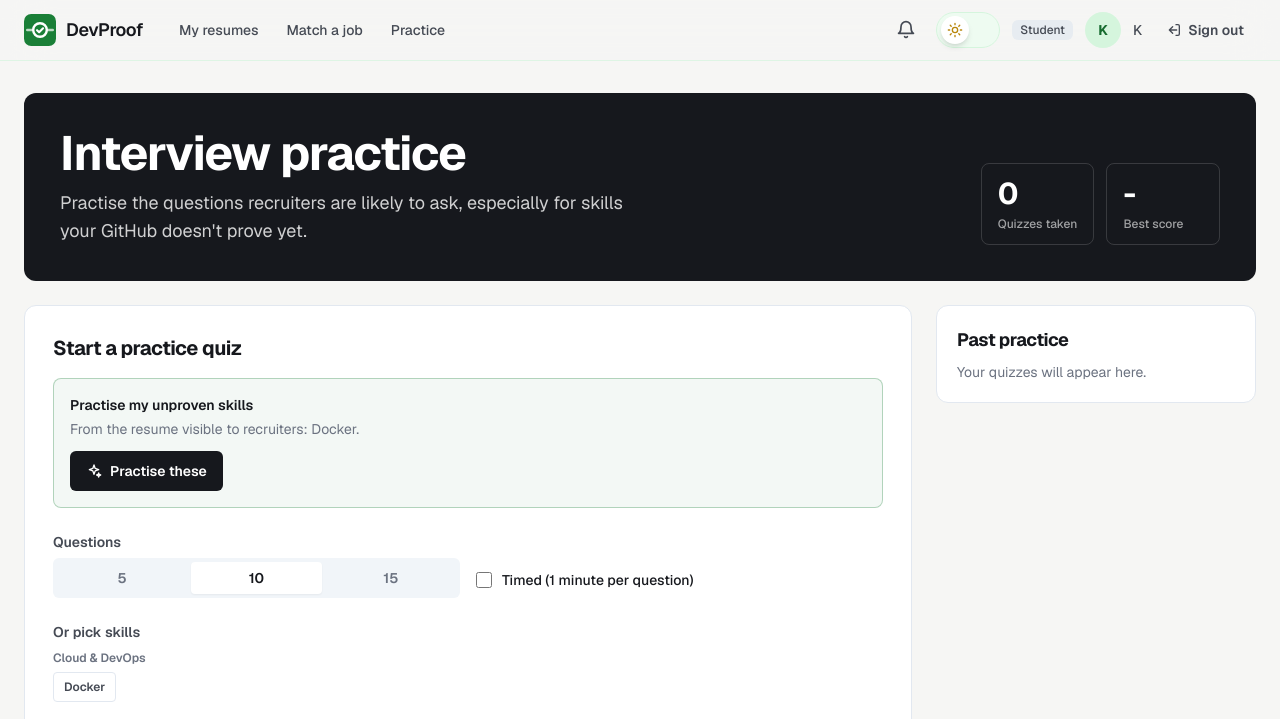
it: Practice page › practises unproven skills, answers, and shows the explanations
The width and height of the screenshot is (1280, 719).
Expected: the text "From the resume visible to recruiters: Docker." is shown, [70,420,359,438]
Click the button "Practise these".
click(146, 471)  # box [70,451,223,491]
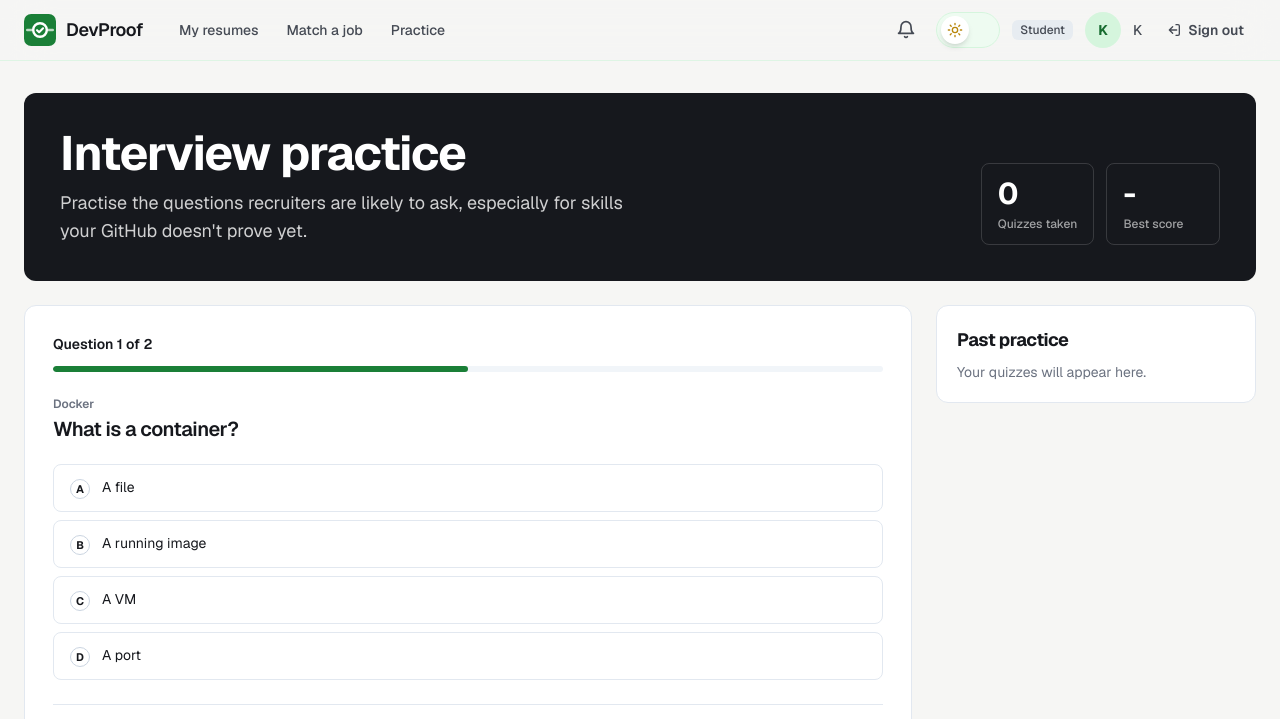
Expected: the text "Question 1 of 2" is shown, [53,334,152,354]
Click the radio button labelled "B A running image".
click(154, 542)  # box [53,520,883,568]
(page scrolled)
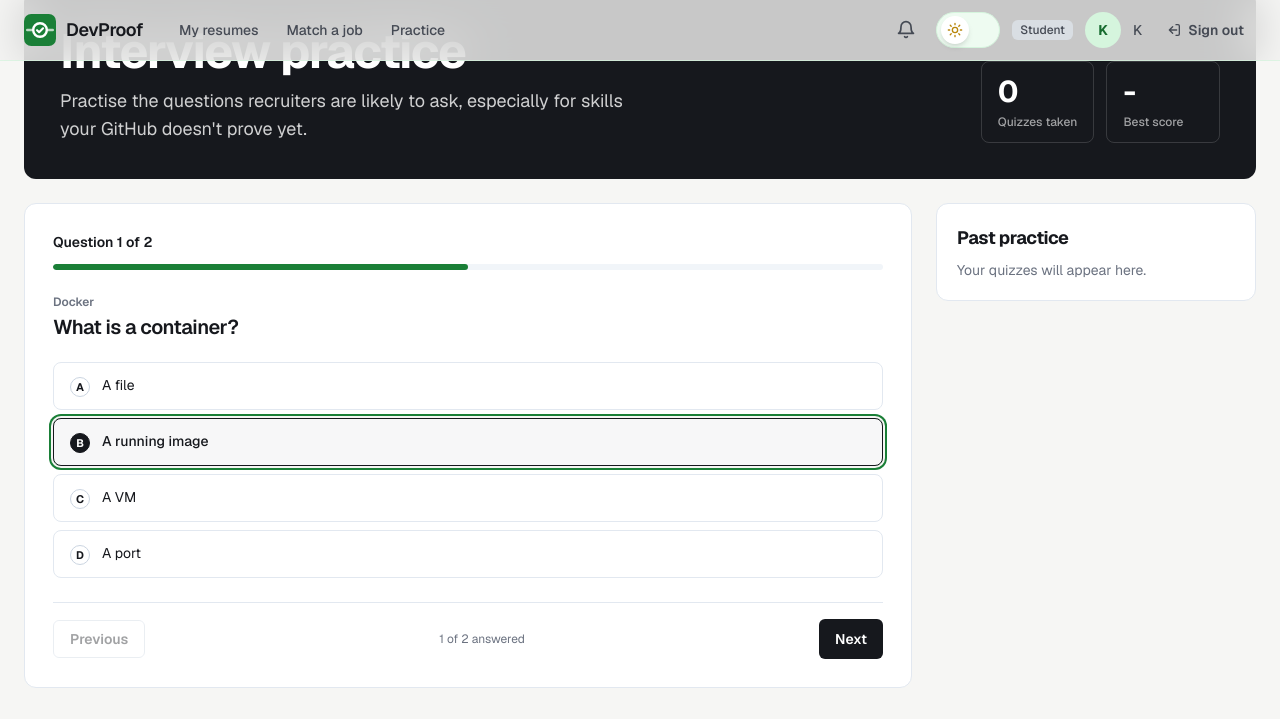
Click the button "Next".
click(851, 638)  # box [819,618,883,658]
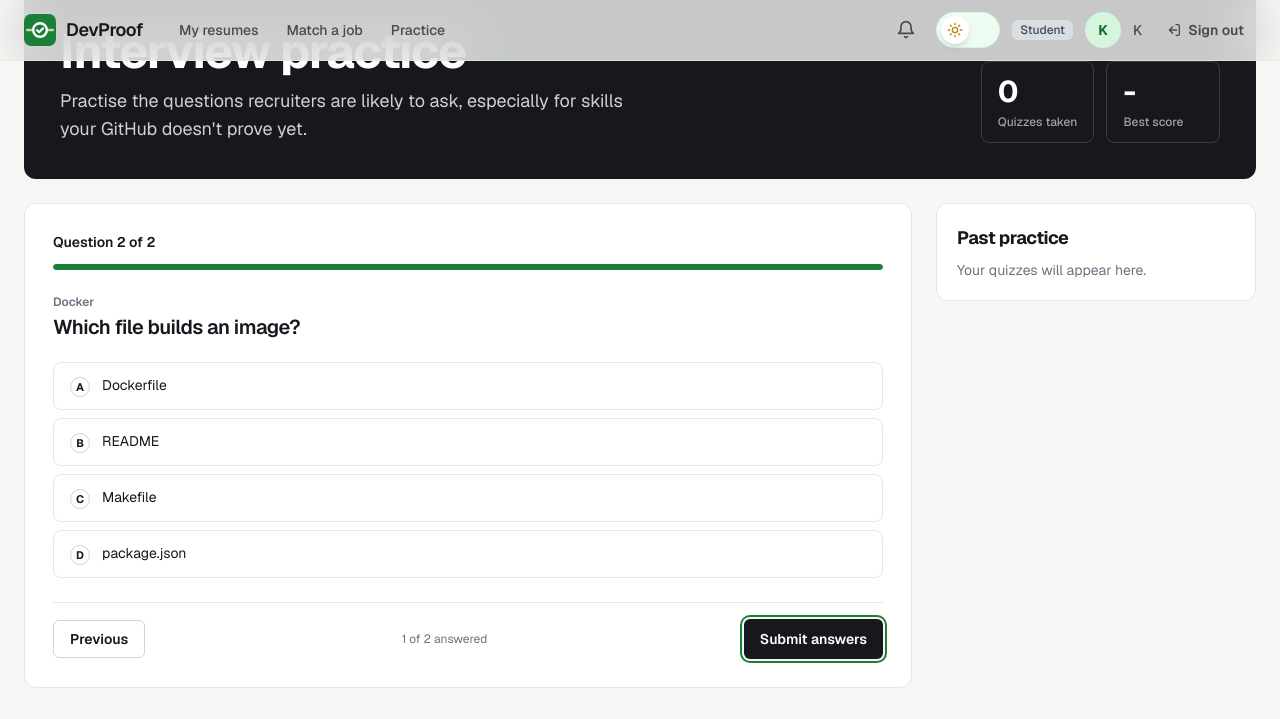
Click the radio button labelled "C Makefile".
click(129, 496)  # box [53,474,883,522]
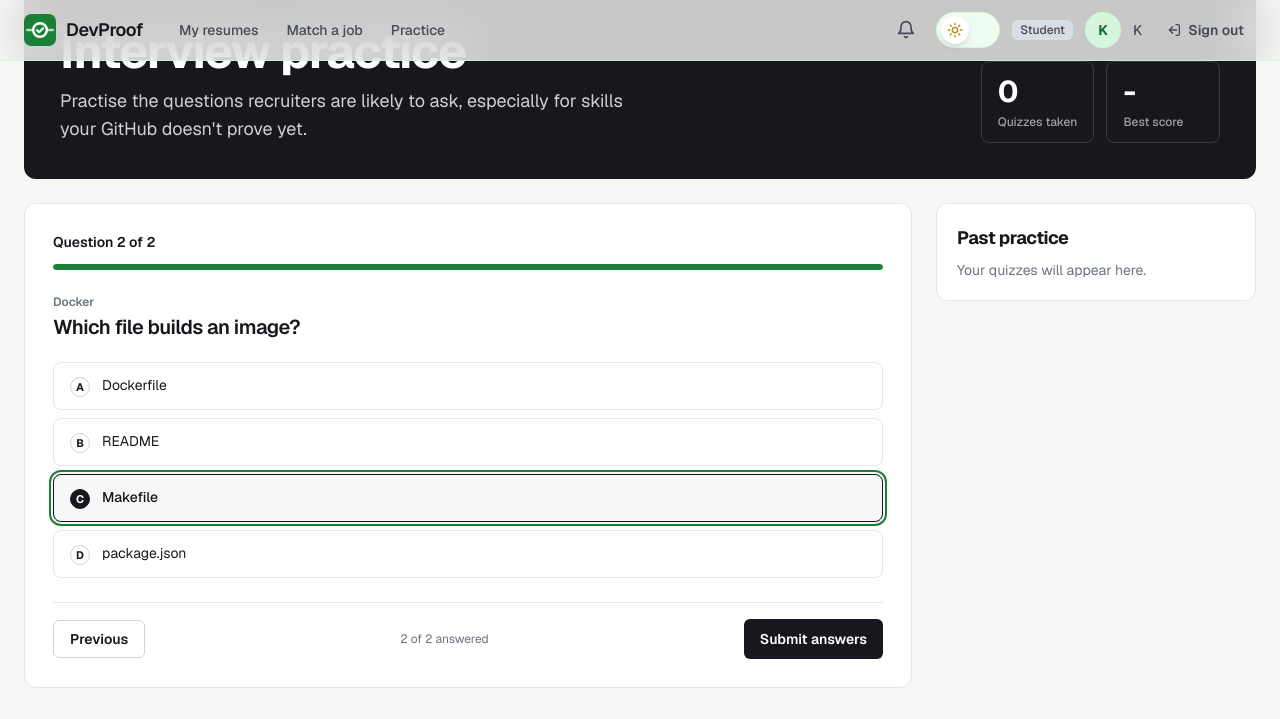
Click the button "Submit answers".
click(813, 638)  # box [744,618,883,658]
(page scrolled)
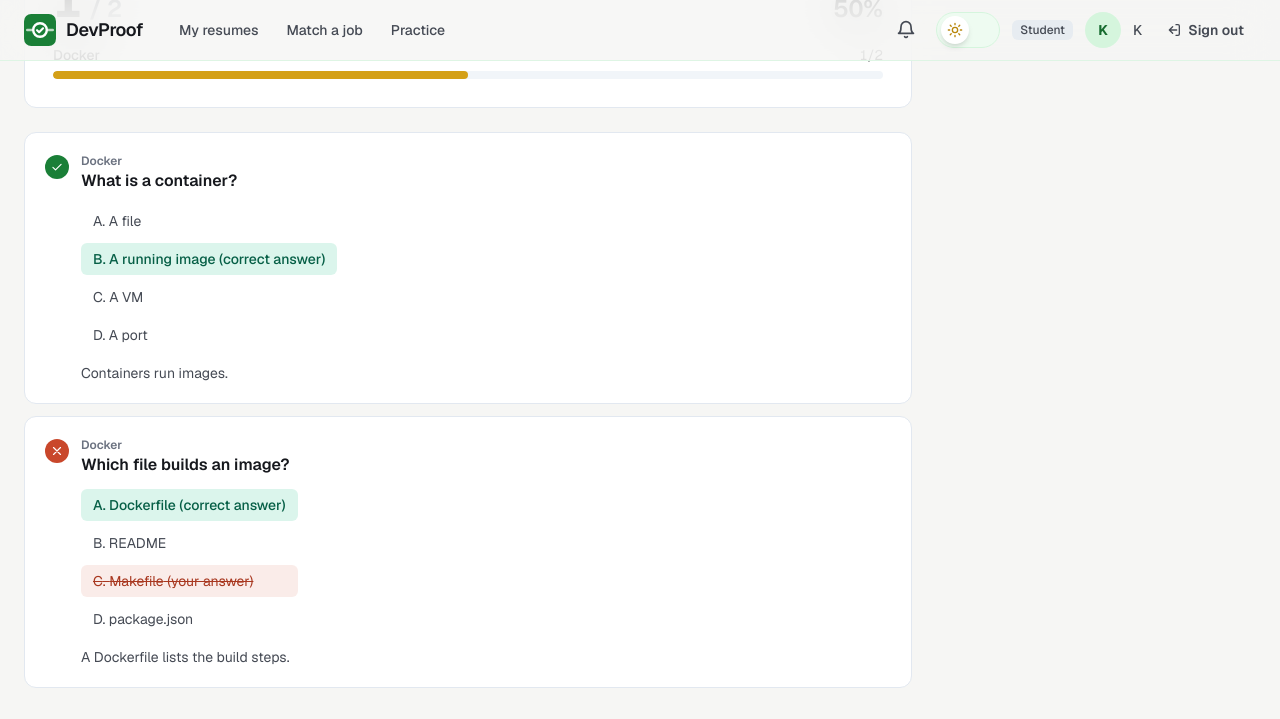
Expected: the text "A Dockerfile lists the build steps." is shown, [81,647,298,667]
Expected: the list item "A. Dockerfile (correct answer)" is shown, [81,489,298,521]
